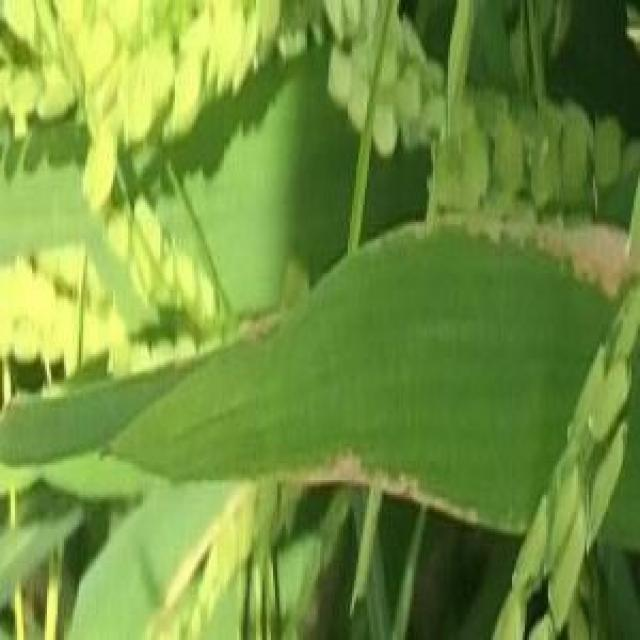leaf blight: (416, 207, 640, 290), (296, 454, 493, 527)
